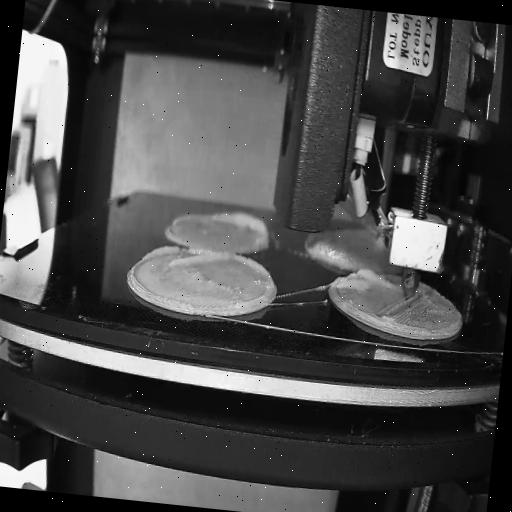over_extrusion: (141, 242, 231, 274), (210, 206, 272, 247), (232, 256, 278, 311), (350, 266, 400, 291)
